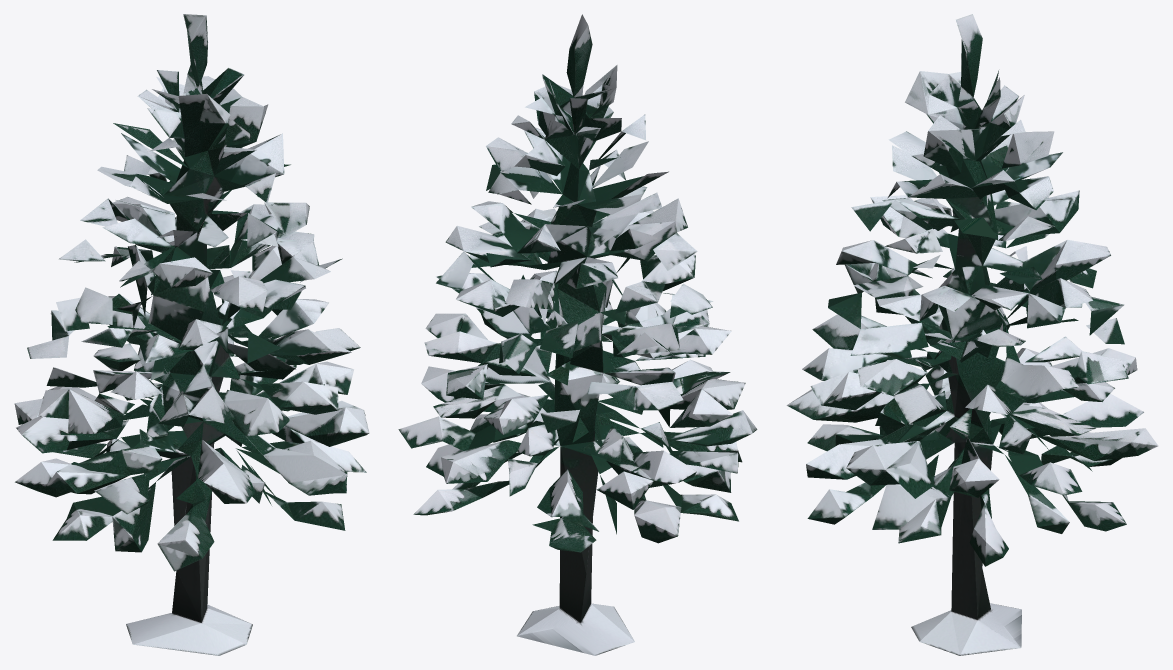
The model's file is snowpine.glb.
3 views of the same model, side by side, from view 1: azimuth 30°, elevation 25°; view 2: azimuth 150°, elevation 25°; view 3: azimuth 270°, elevation 25° (orthographic). The views are drawn at different scales.
Bounding box in the file's own units: 0.9977 × 1.89 × 1.04.
1 material, 1 textured.
